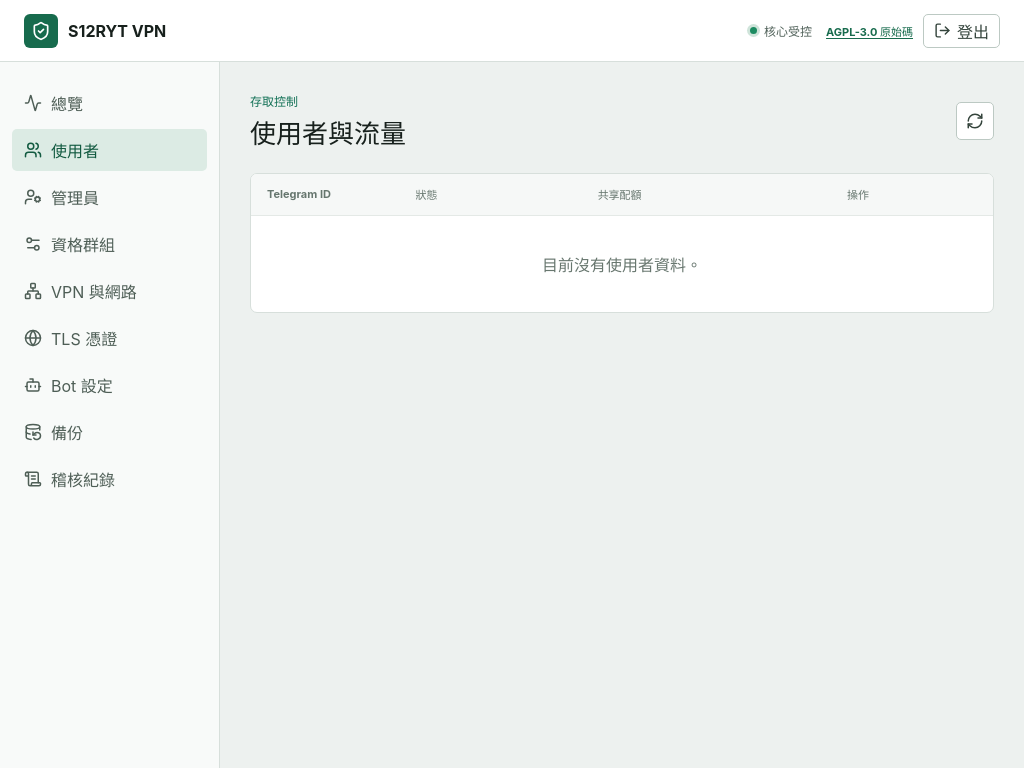
Scenario: 管理面板登入 › 沿用現有安全 session 並可登出
Expected: the heading "使用者與流量" is shown, [250,118,406,150]
Click the button "登出": (962, 30) [923,14,1000,48]
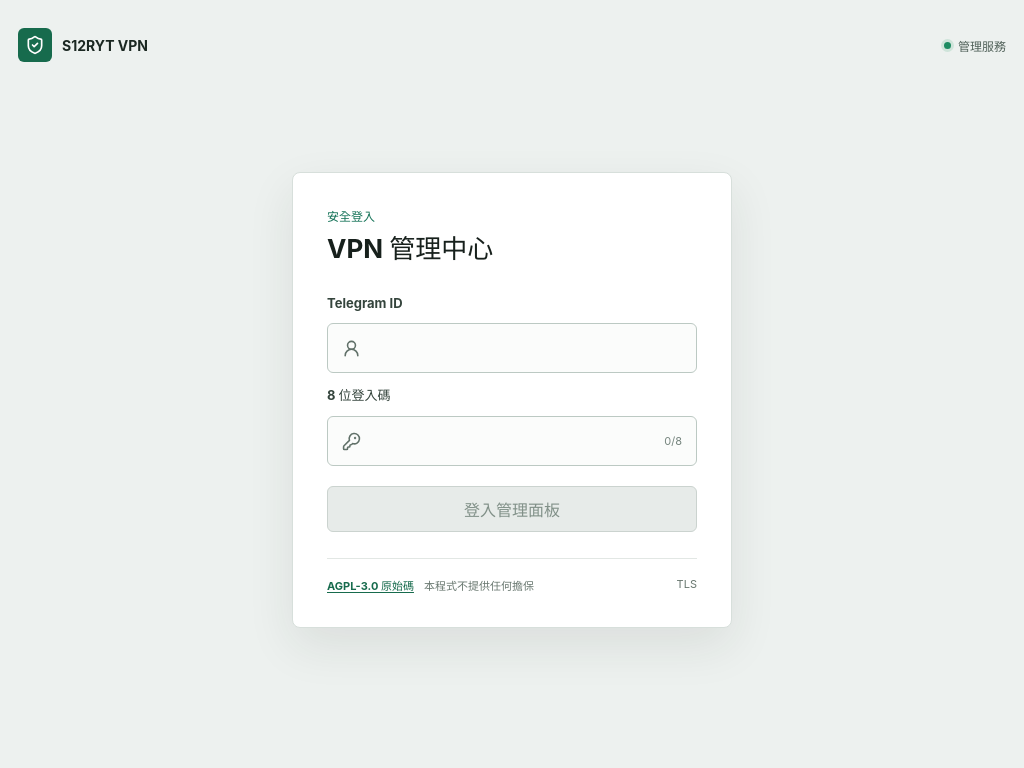
Expected: the heading "VPN 管理中心" is shown, [327,233,493,264]
